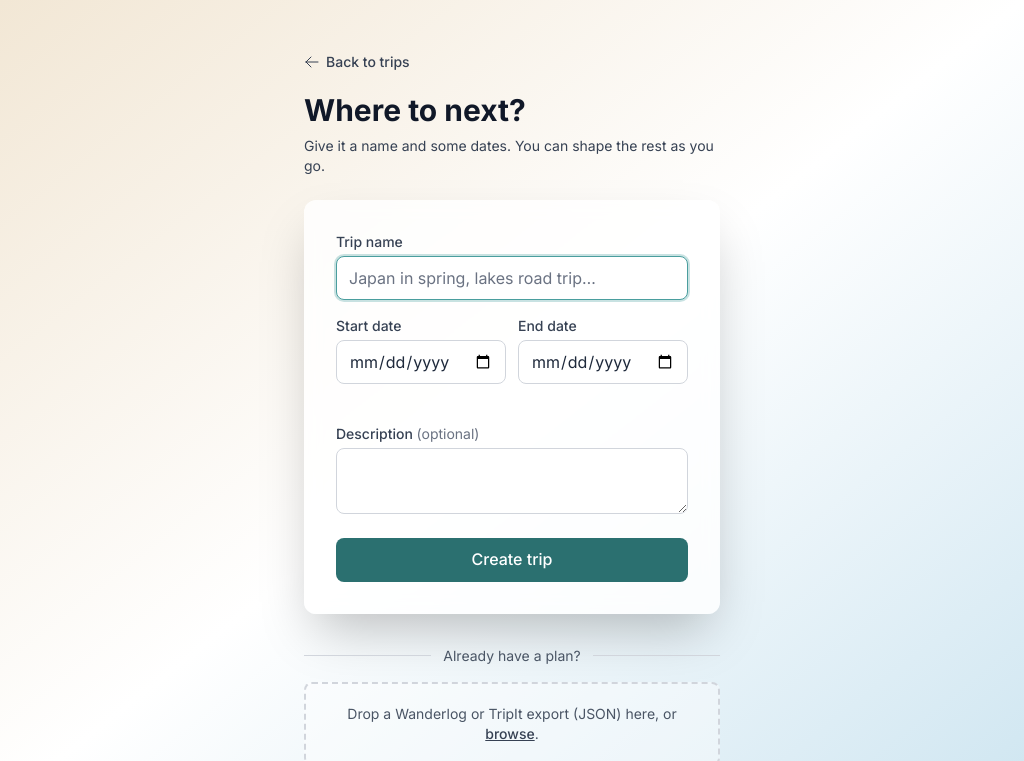
Scenario: NewTripPage › requires both dates before creating
Type "Japan in spring" into the field labelled "Trip name" at (512, 278), box [336,256,688,300]
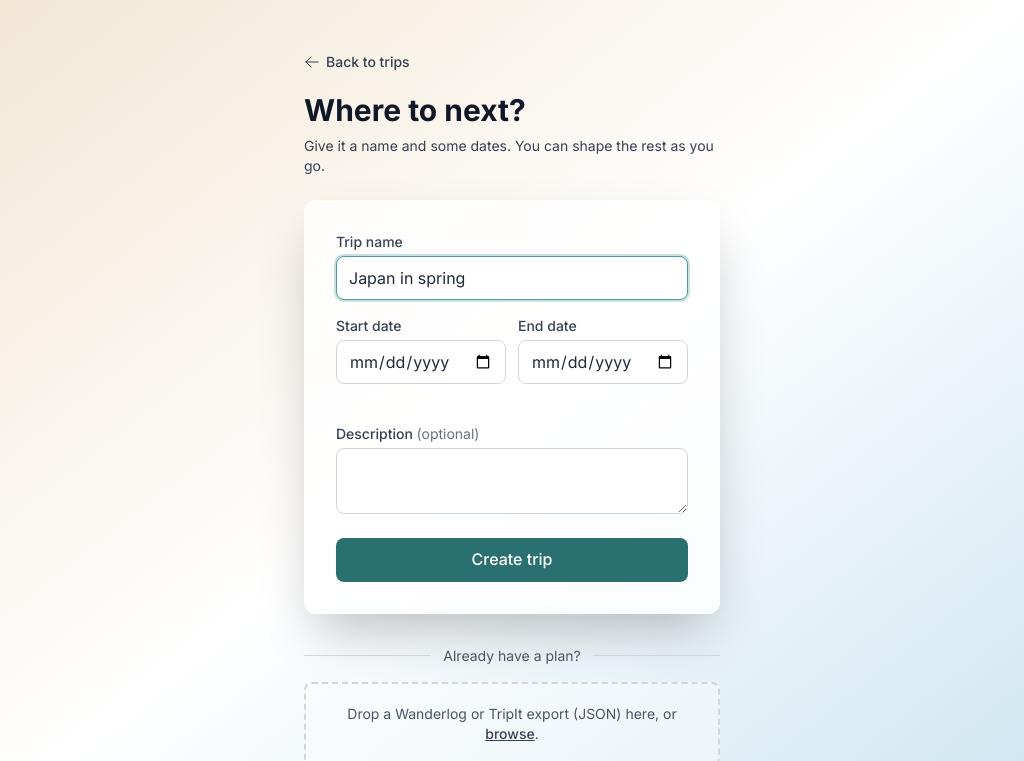
Click the button "Create trip" at (512, 560), box [336,538,688,582]
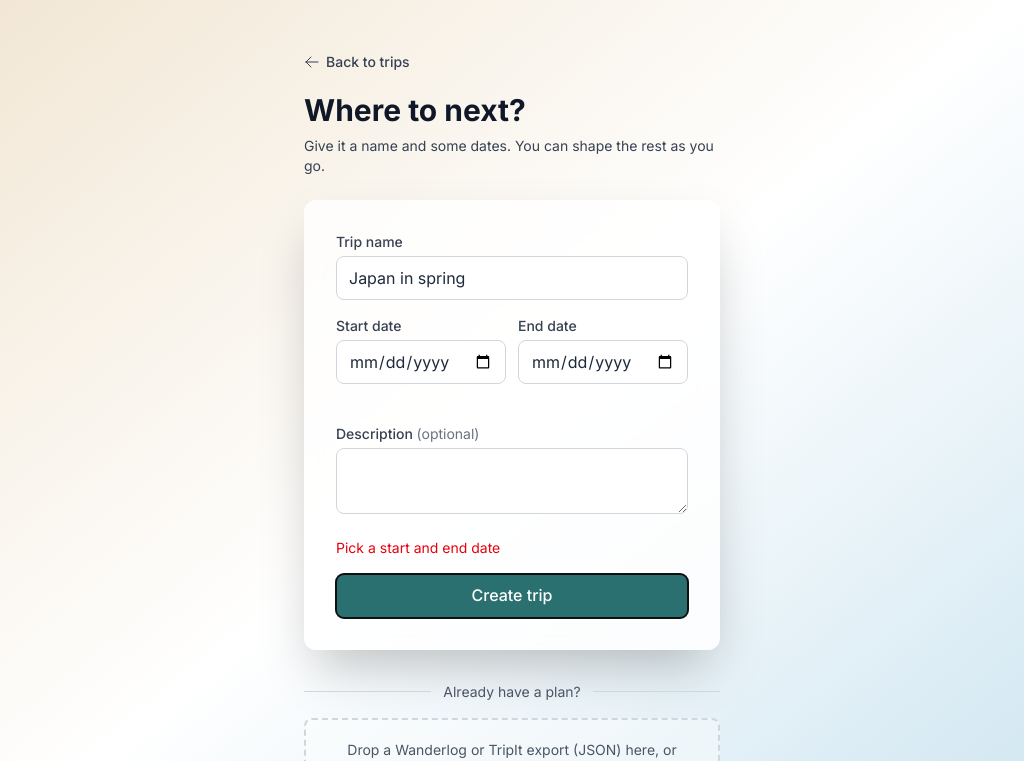
Expected: the message shows "start and end date", [336,539,500,556]
